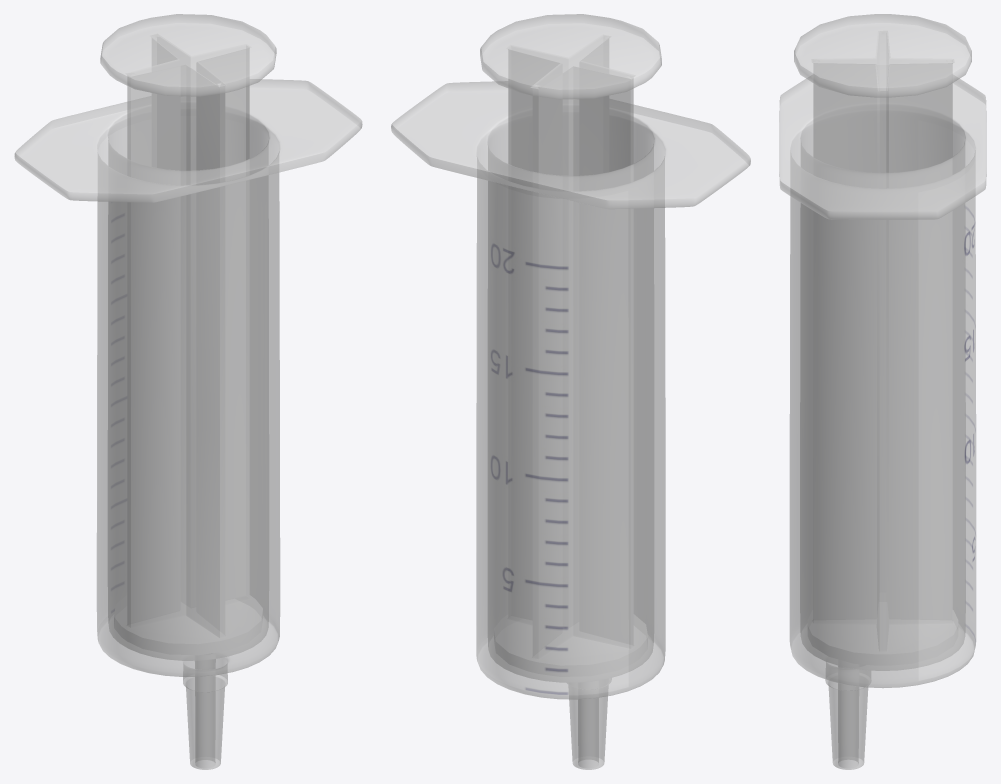
File: jeringa3.FBX
3 views of the same model, side by side, from view 1: azimuth 30°, elevation 25°; view 2: azimuth 150°, elevation 25°; view 3: azimuth 270°, elevation 25° (orthographic). The views are drawn at different scales.
Bounding box in the file's own units: 22.67 × 51.25 × 13.48.
